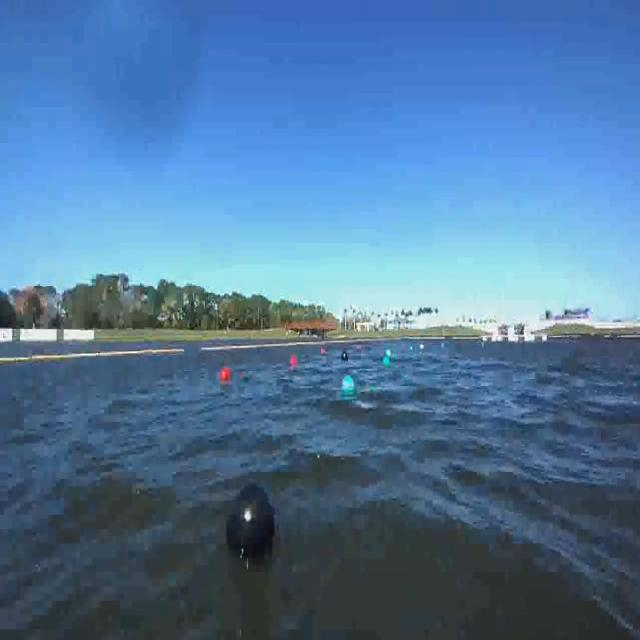black-buoy: (226, 484, 276, 564), (341, 345, 348, 360)
green-buoy: (341, 376, 354, 396), (382, 353, 390, 369)
red-buoy: (220, 366, 230, 380), (290, 355, 298, 368)
